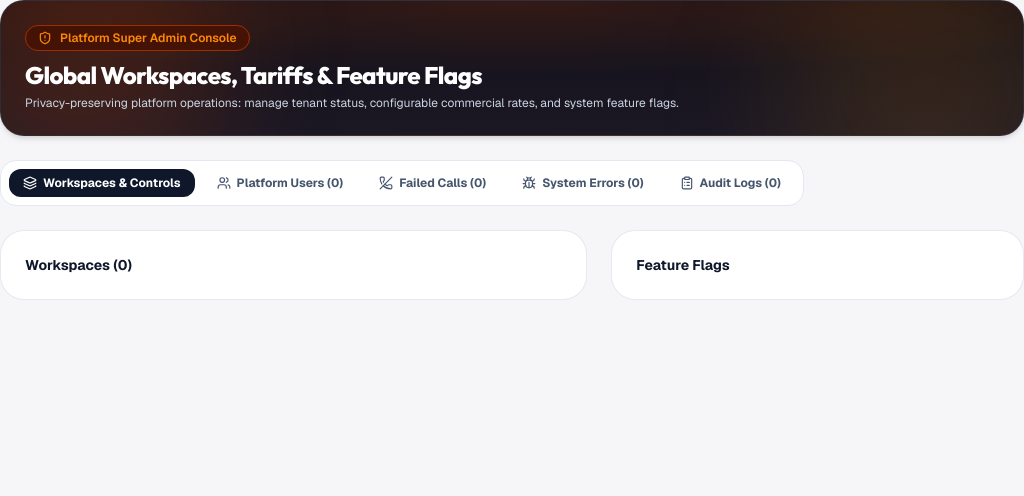
Sprint D End-to-End Parity (RED -> GREEN) › syncs kill switch status from overview in AdminPortal and shows Platform Users tab in SuperAdminPanel
Later steps or results of the test are not shown.
Click the button "Platform Users (0)" at (280, 183), box [203,169,357,197]
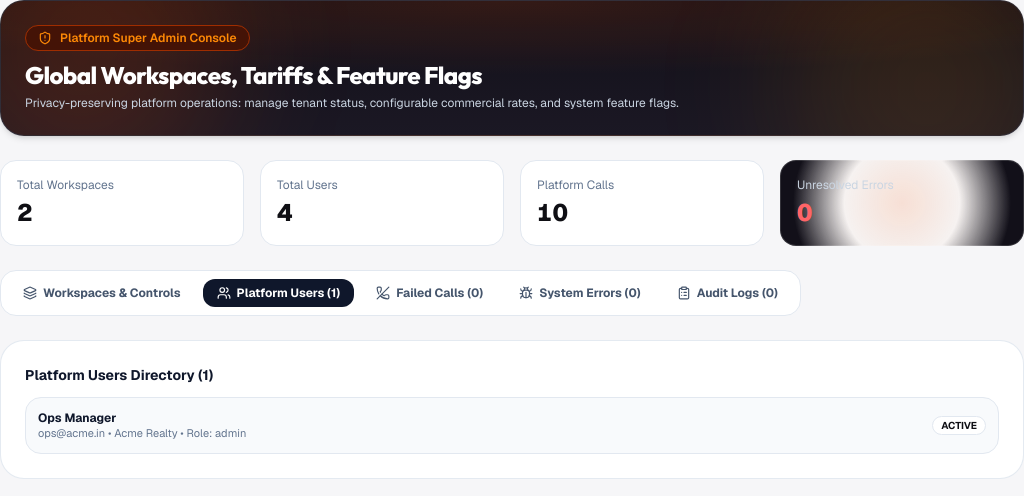
Expected: the text "ops@acme.in • Acme Realty • Role: admin" is shown, [38,426,246,441]
